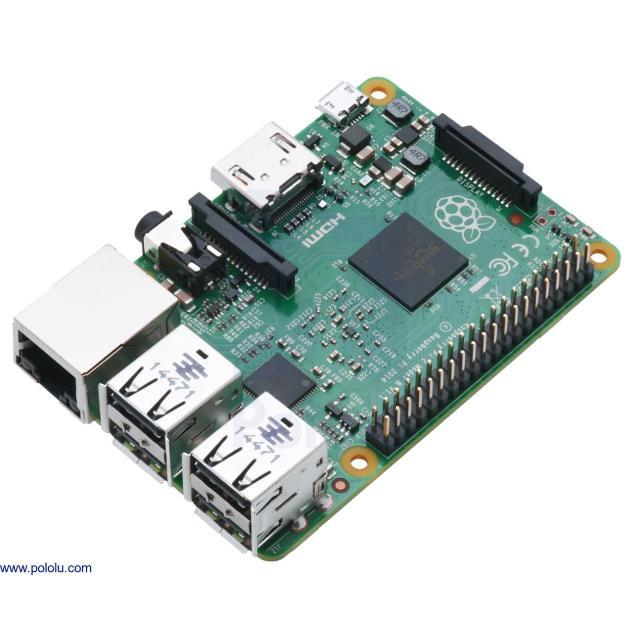Raspberry-Pi-2-B: (14, 78, 621, 559)
